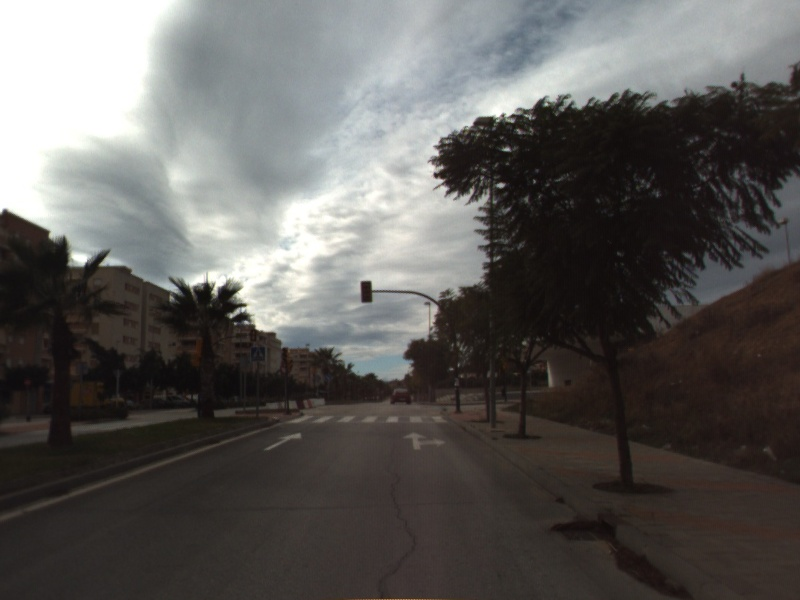STRAIGHT: (262, 431, 303, 452)
STRAIGHT_RIGHT: (401, 430, 448, 452)
